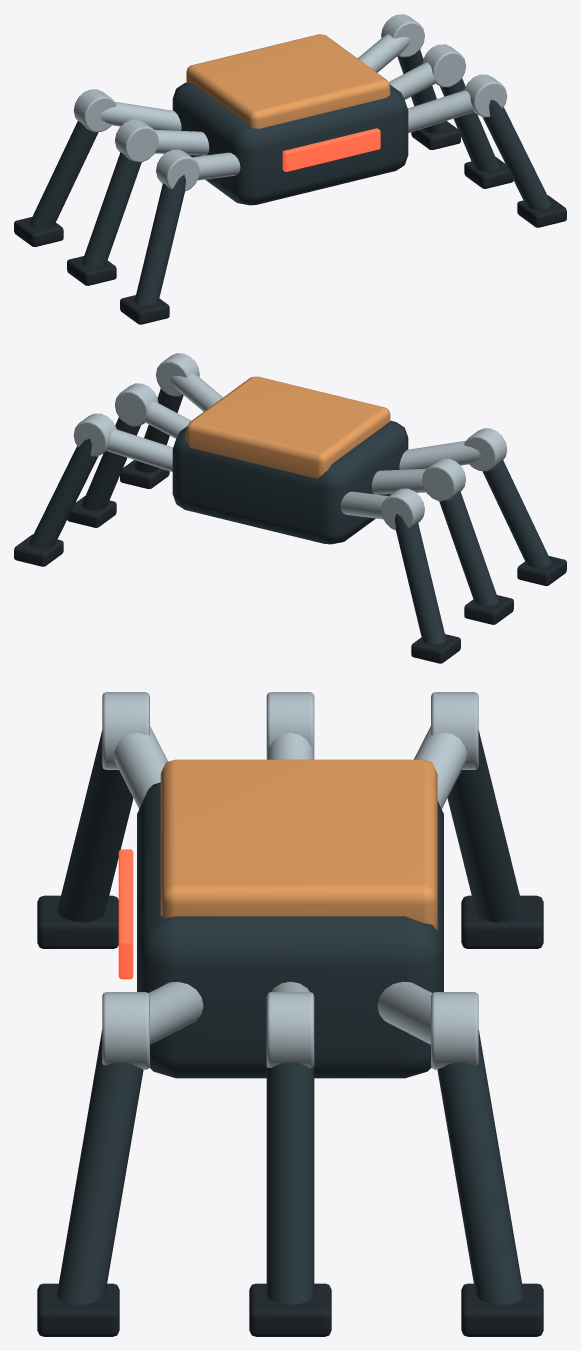
The model's file is crawler.glb.
The picture shows the model from 3 angles, top to bottom: view 1: azimuth 30°, elevation 25°; view 2: azimuth 150°, elevation 25°; view 3: azimuth 270°, elevation 25°; orthographic projection. The views are drawn at different scales.
Visible parts, largest first — view 1: Graphite, Brushed alloy, Warm ceramic, Tread rubber, Tail red; view 2: Graphite, Brushed alloy, Warm ceramic, Tread rubber; view 3: Graphite, Warm ceramic, Brushed alloy, Tread rubber, Tail red.
Part boxes in pixels (left/top/right/bottom): Graphite: left=29, top=49, right=551, bottom=305; Brushed alloy: left=73, top=14, right=507, bottom=191; Warm ceramic: left=186, top=34, right=390, bottom=128; Tread rubber: left=14, top=121, right=566, bottom=324; Tail red: left=282, top=128, right=380, bottom=171; Graphite: left=29, top=388, right=551, bottom=644; Brushed alloy: left=73, top=353, right=507, bottom=530; Warm ceramic: left=186, top=376, right=390, bottom=478; Tread rubber: left=14, top=460, right=566, bottom=663; Graphite: left=57, top=730, right=523, bottom=1304; Warm ceramic: left=160, top=759, right=437, bottom=930; Brushed alloy: left=102, top=692, right=478, bottom=1069; Tread rubber: left=37, top=895, right=543, bottom=1336; Tail red: left=118, top=849, right=133, bottom=979.
Bounding box in the file's own units: 2.29 × 0.785 × 1.17.
